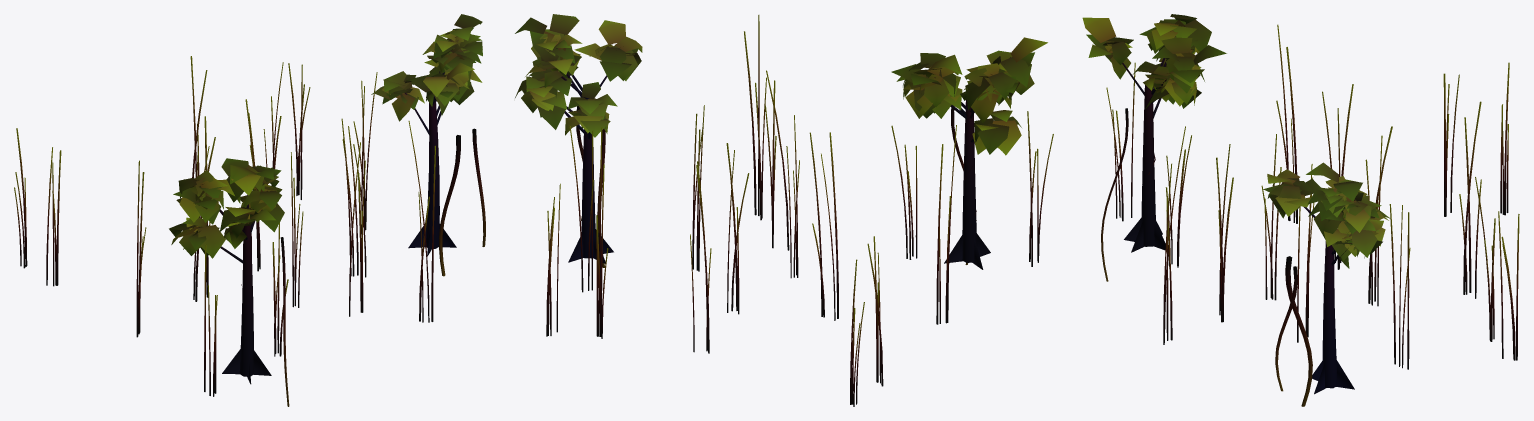
Rendered from patch_secondary_far.glb.
The picture shows the model from 3 angles, left to right: view 1: azimuth 30°, elevation 25°; view 2: azimuth 150°, elevation 25°; view 3: azimuth 270°, elevation 25°; orthographic projection. The views are drawn at different scales.
Parts seen in each view (by area): view 1: patch_secondary_far; view 2: patch_secondary_far; view 3: patch_secondary_far.
Part boxes in pixels (<box>): patch_secondary_far: <box>14,14,485,406</box>; patch_secondary_far: <box>515,14,1053,406</box>; patch_secondary_far: <box>1082,14,1519,406</box>.
Size of the model in its own units: 16.57 by 9.54 by 14.76.
Materials: 1 (1 with a texture image).
